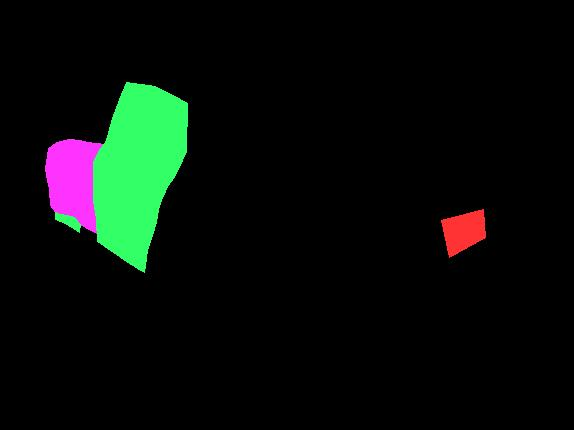Broken part: (93, 82, 187, 272), (55, 212, 80, 232)
Dent: (45, 139, 111, 233)
Missing part: (441, 209, 485, 257)
